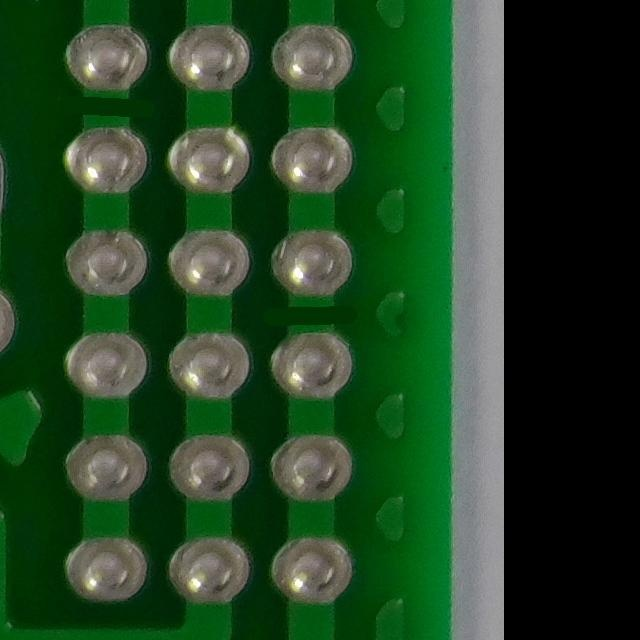open_circuit: (269, 294, 372, 346)
